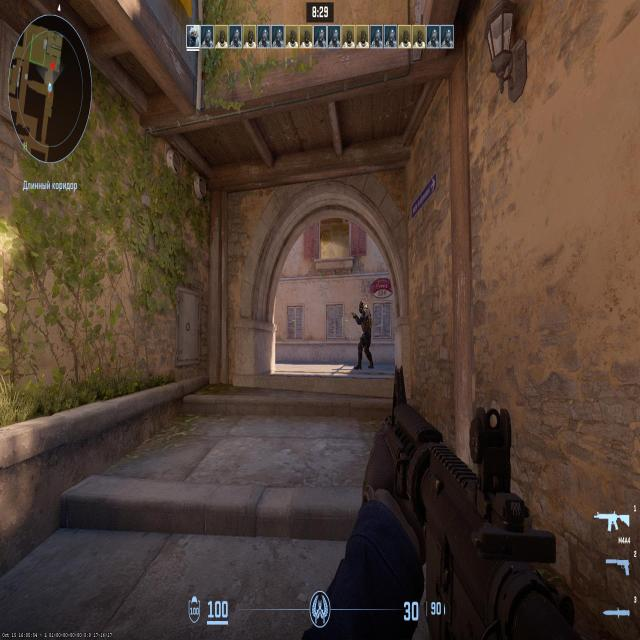CT: (360, 299, 373, 363)
CT_heat: (359, 299, 369, 316)
